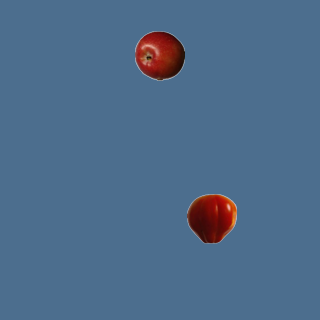Apple Braeburn: (134, 30, 184, 80)
Tomato 1: (186, 193, 236, 243)
